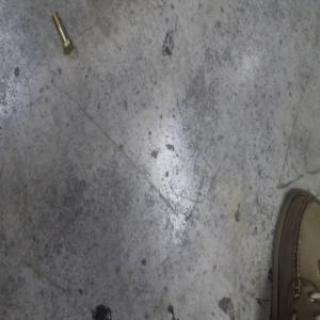Bolttrack_idkeyframe: (50, 12, 73, 57)
